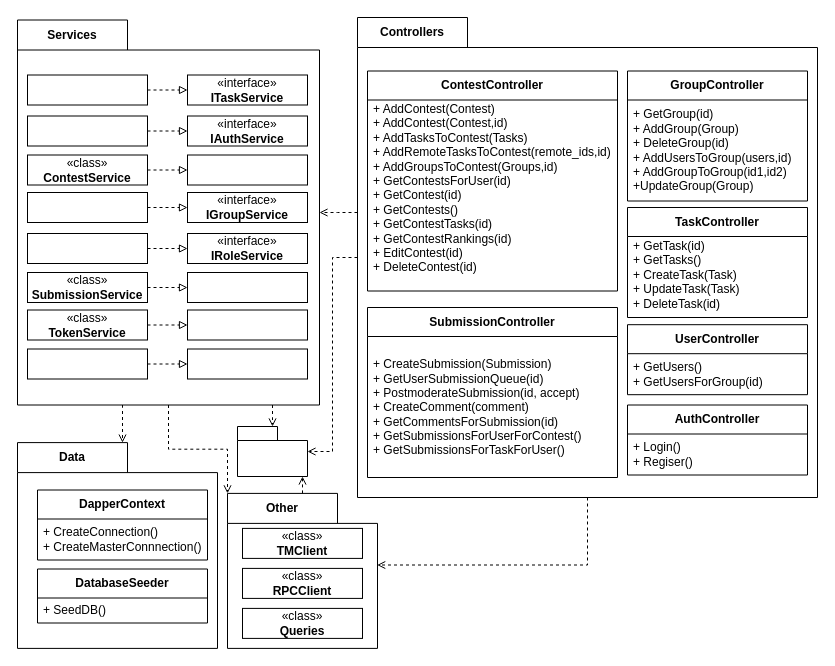
Image size: 835x666. Some labels were removed from this diagram. The shapes that lost their labels are listed below. From the top down, each one's centre as x and y in pixels, then its label:
At [87,89]: "«class» TaskService".
At [87,130]: "«class» AuthService".
At [247,169]: "«interface» IContestService".
At [87,207]: "«class» GroupService".
At [87,248]: "«class» RoleService".
At [247,287]: "«interface» ISubmissionService".
At [247,324]: "«interface» ITokenService".
At [87,363]: "«class» UserService".
At [247,363]: "«interface» IUserService".
At [272,451]: "Models".
